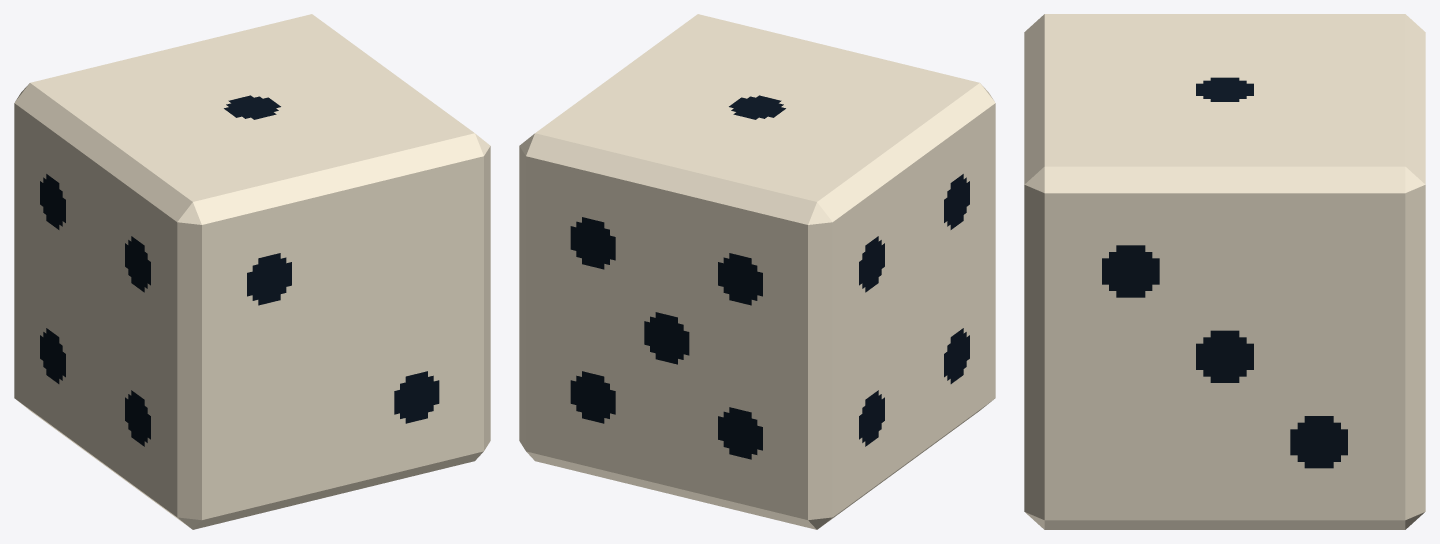
The model's file is dice-01.glb.
3 renders of one model, left to right at view 1: azimuth 30°, elevation 25°; view 2: azimuth 150°, elevation 25°; view 3: azimuth 270°, elevation 25°, orthographic. The views are drawn at different scales.
Parts seen in each view (by area): view 1: CreamBody, PixelPips; view 2: CreamBody, PixelPips; view 3: CreamBody, PixelPips.
Part boxes in pixels (box(x1,y1,x2,y2)): CreamBody: box(14, 14, 490, 529); PixelPips: box(40, 95, 439, 446); CreamBody: box(519, 14, 995, 529); PixelPips: box(570, 95, 969, 459); CreamBody: box(1024, 14, 1425, 529); PixelPips: box(1102, 77, 1347, 468).
Bounding box in the file's own units: 2 × 2 × 2.
